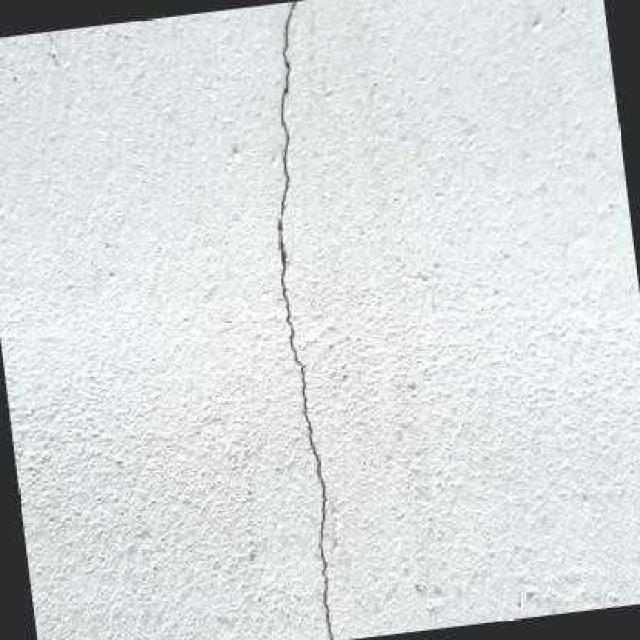D00: (277, 1, 334, 640)
